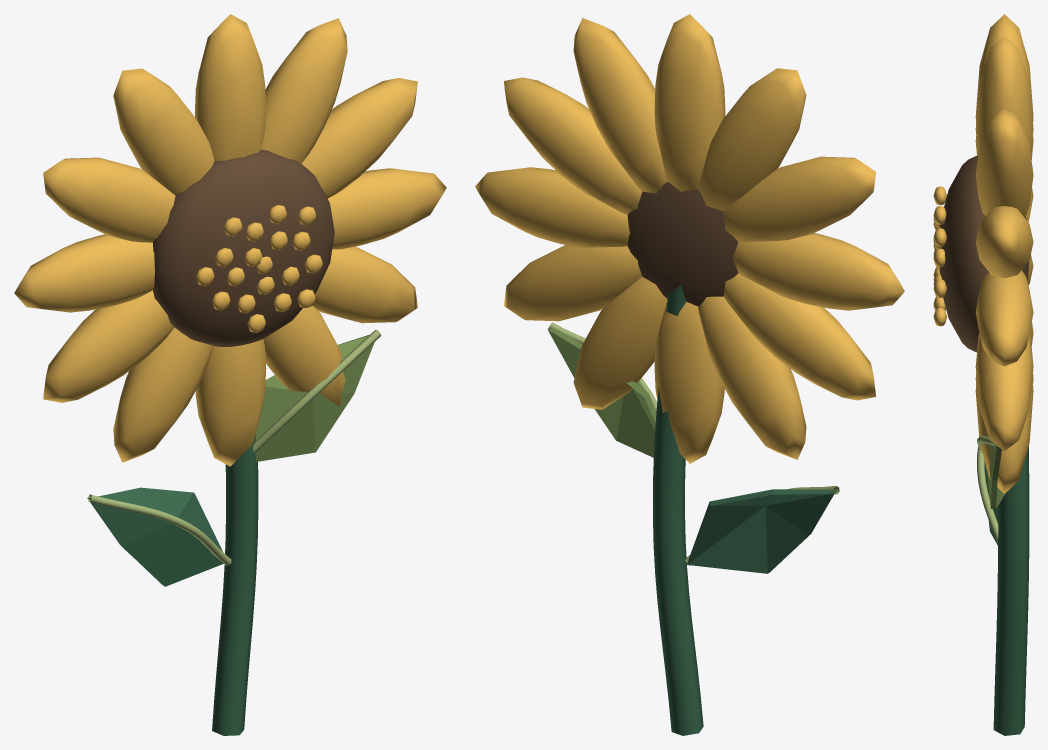
File: sunflower.glb
The picture shows the model from 3 angles, left to right: view 1: azimuth 30°, elevation 25°; view 2: azimuth 150°, elevation 25°; view 3: azimuth 270°, elevation 25°; orthographic projection. The views are drawn at different scales.
Parts seen in each view (by area): view 1: PetalCrown, FlowerStem; view 2: PetalCrown, FlowerStem; view 3: PetalCrown, FlowerStem.
Boxes of the visible parts, x1,y1,x2,y2 form: PetalCrown: (14, 14, 446, 466); FlowerStem: (87, 330, 381, 735); PetalCrown: (475, 14, 904, 463); FlowerStem: (547, 285, 839, 735); PetalCrown: (933, 14, 1033, 493); FlowerStem: (977, 435, 1029, 735).
Size of the model in its own units: 1.05 by 1.67 by 0.218.
